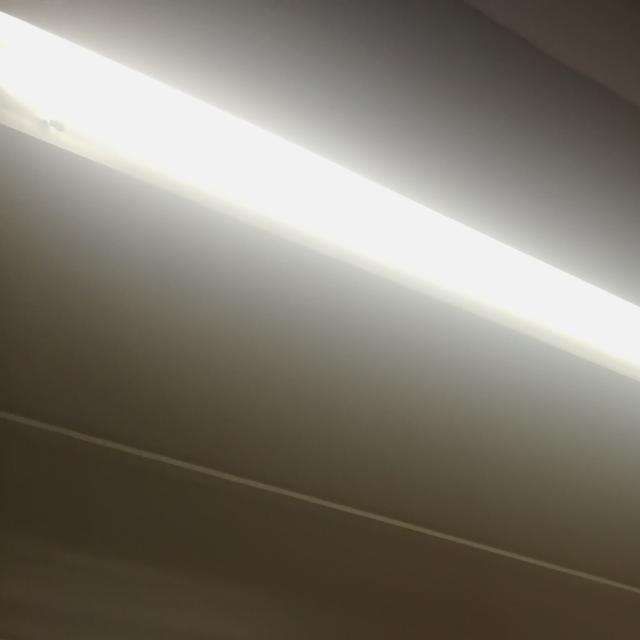fluorescent tube: (0, 0, 640, 508)
